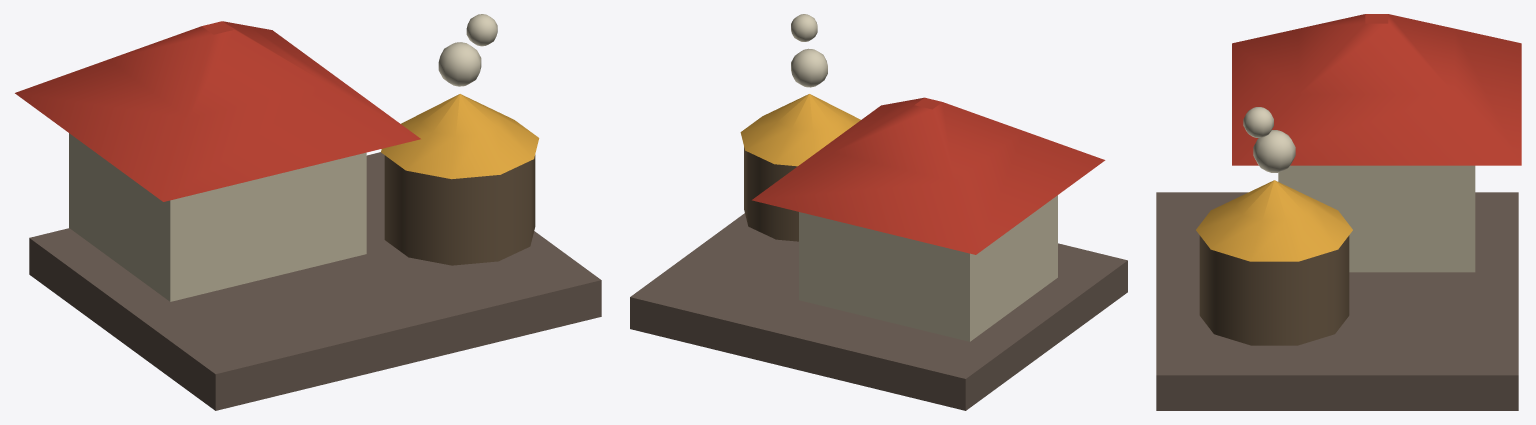
The model's file is dan_tang_fen_feng.glb.
The picture shows the model from 3 angles, left to right: view 1: azimuth 30°, elevation 25°; view 2: azimuth 150°, elevation 25°; view 3: azimuth 270°, elevation 25°; orthographic projection. The views are drawn at different scales.
Visible parts, largest first — view 1: _MeshInstance3D_85, _MeshInstance3D_87, _MeshInstance3D_86, _MeshInstance3D_88, _MeshInstance3D_89, _MeshInstance3D_90, _MeshInstance3D_91; view 2: _MeshInstance3D_85, _MeshInstance3D_87, _MeshInstance3D_86, _MeshInstance3D_89, _MeshInstance3D_88, _MeshInstance3D_90, _MeshInstance3D_91; view 3: _MeshInstance3D_85, _MeshInstance3D_87, _MeshInstance3D_86, _MeshInstance3D_88, _MeshInstance3D_89, _MeshInstance3D_90, _MeshInstance3D_91.
Boxes of the visible parts, x1,y1,x2,y2 form: _MeshInstance3D_85: (29,152,601,410); _MeshInstance3D_87: (15,21,420,201); _MeshInstance3D_86: (69,133,366,301); _MeshInstance3D_88: (384,155,535,265); _MeshInstance3D_89: (381,94,539,179); _MeshInstance3D_90: (438,42,481,86); _MeshInstance3D_91: (466,14,497,46); _MeshInstance3D_85: (630,213,1127,410); _MeshInstance3D_87: (752,97,1105,254); _MeshInstance3D_86: (799,195,1057,341); _MeshInstance3D_89: (740,94,860,166); _MeshInstance3D_88: (744,147,798,241); _MeshInstance3D_90: (791,48,827,87); _MeshInstance3D_91: (791,14,817,41); _MeshInstance3D_85: (1156,192,1518,410); _MeshInstance3D_87: (1232,14,1521,165); _MeshInstance3D_86: (1278,165,1475,272); _MeshInstance3D_88: (1199,235,1349,345); _MeshInstance3D_89: (1196,180,1352,261); _MeshInstance3D_90: (1253,130,1295,172); _MeshInstance3D_91: (1243,107,1273,137).
Bounding box in the file's own units: 1.14 × 0.76 × 0.9277.
